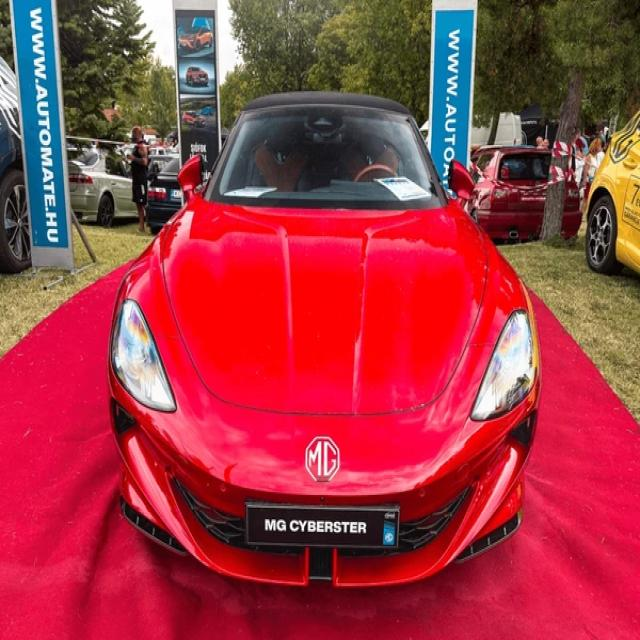mg: (304, 434, 342, 484)
